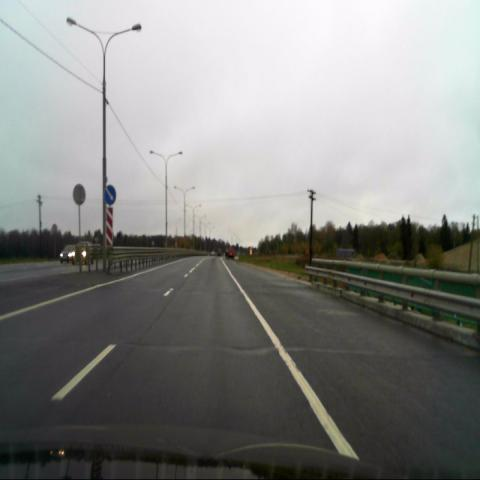4_2_1: (105, 186, 116, 206)
